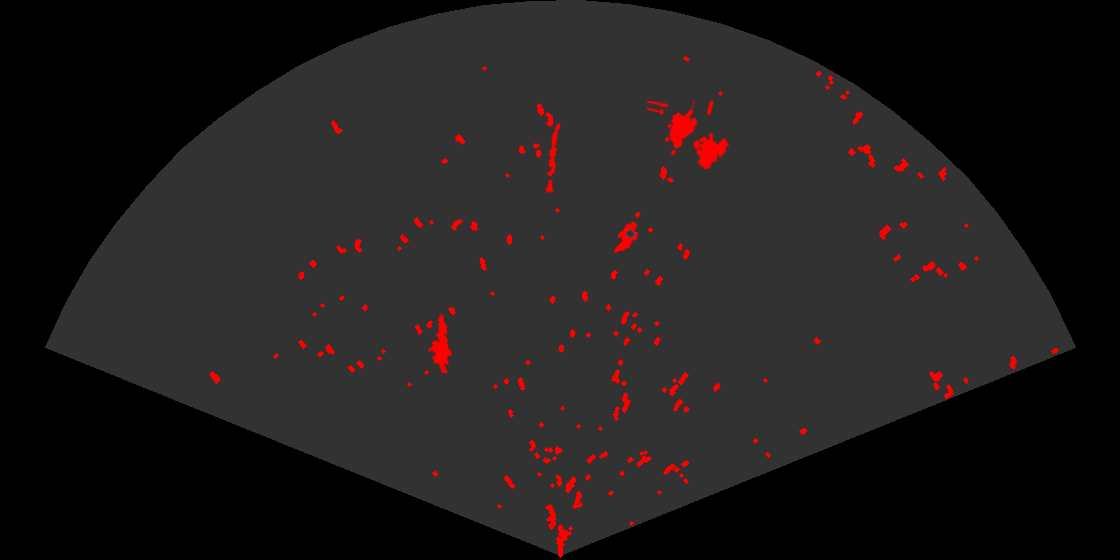AUV: (612, 219, 640, 255)
cage: (647, 101, 731, 171)
chain: (543, 121, 562, 193)
frogman: (426, 313, 454, 373)
